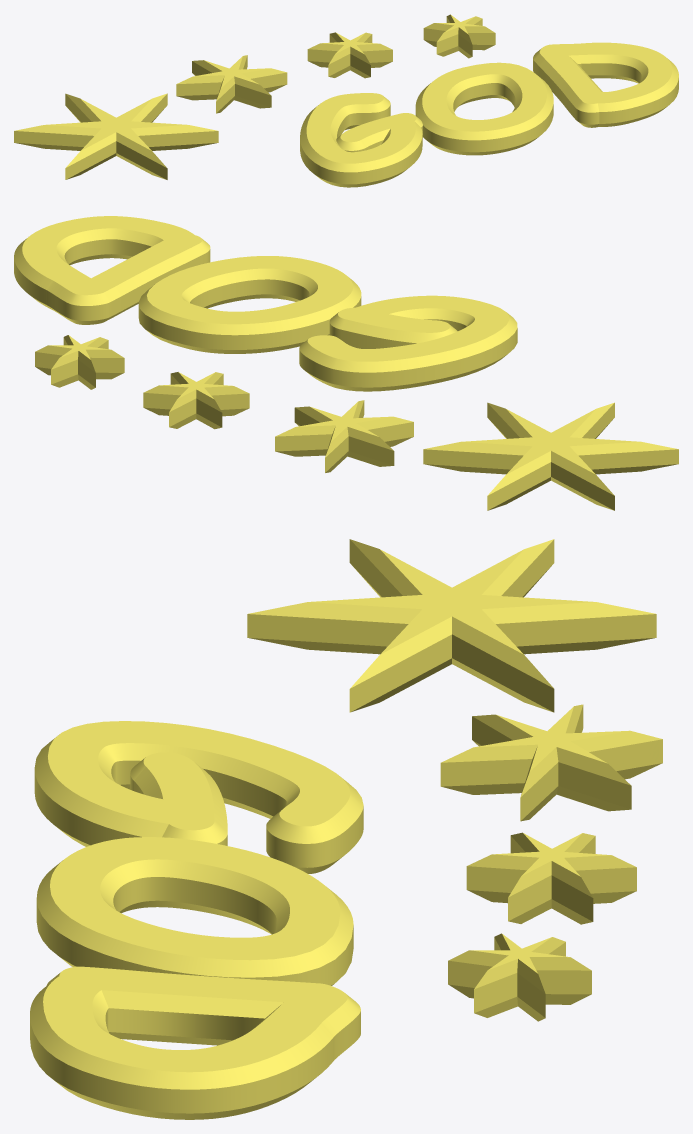
File: comboGod.FBX
3 renders of one model, top to bottom at view 1: azimuth 30°, elevation 25°; view 2: azimuth 150°, elevation 25°; view 3: azimuth 270°, elevation 25°, orthographic. The views are drawn at different scales.
Visible parts, largest first — view 1: Text003, Star001, Star002, Star003, Star004; view 2: Text003, Star001, Star002, Star003, Star004; view 3: Text003, Star001, Star002, Star003, Star004.
Part boxes in pixels (<box>): Text003: <box>300,42,678,187</box>; Star001: <box>14,93,218,179</box>; Star002: <box>176,55,287,113</box>; Star003: <box>307,32,392,78</box>; Star004: <box>423,14,495,58</box>; Text003: <box>14,216,517,391</box>; Star001: <box>423,402,678,510</box>; Star002: <box>275,400,413,472</box>; Star003: <box>143,372,249,429</box>; Star004: <box>35,335,124,389</box>; Text003: <box>30,721,363,1119</box>; Star001: <box>247,539,656,712</box>; Star002: <box>440,704,662,821</box>; Star003: <box>466,832,636,924</box>; Star004: <box>448,933,591,1021</box>.
Bounding box in the file's own units: 0.1981 × 0.008 × 0.0962.
